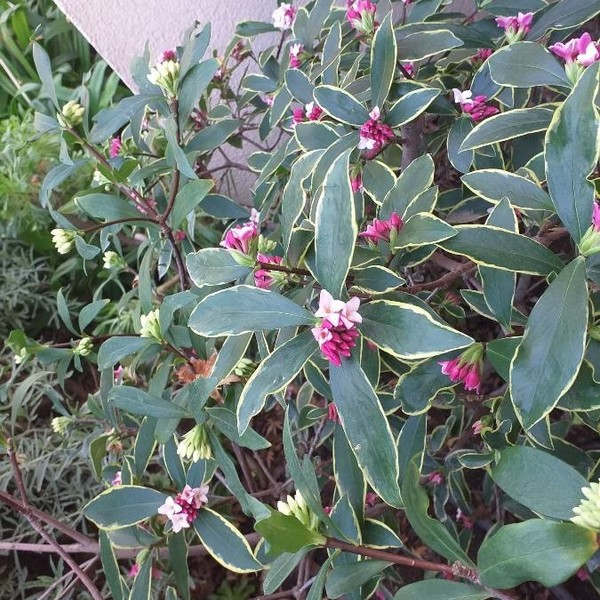obstacle: (66, 66, 590, 577)
